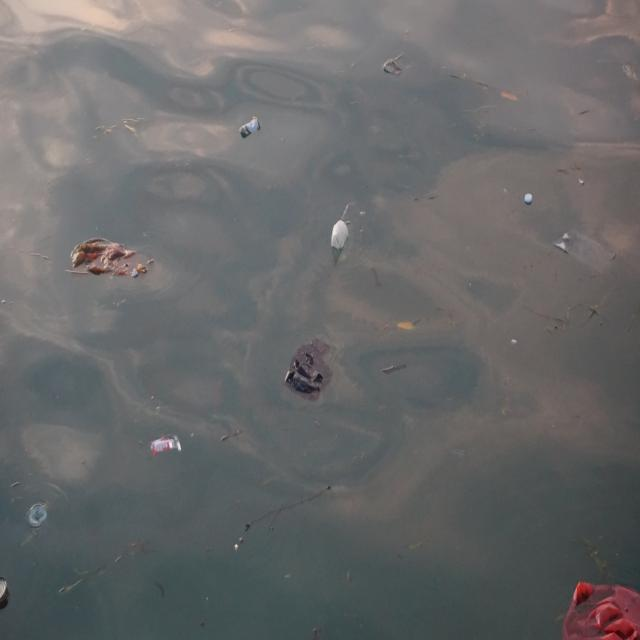Botol Plastik: (524, 192, 535, 206)
Bungkus Makanan: (150, 433, 186, 459)
Bungkus Minuman: (328, 213, 353, 256), (239, 109, 265, 142)
Kantong Plastik: (69, 223, 156, 288), (562, 577, 640, 640), (283, 332, 338, 402), (554, 225, 617, 279)
